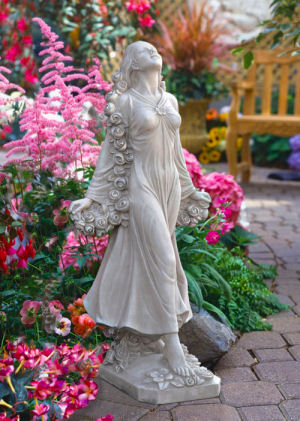person-like: (64, 37, 214, 379)
